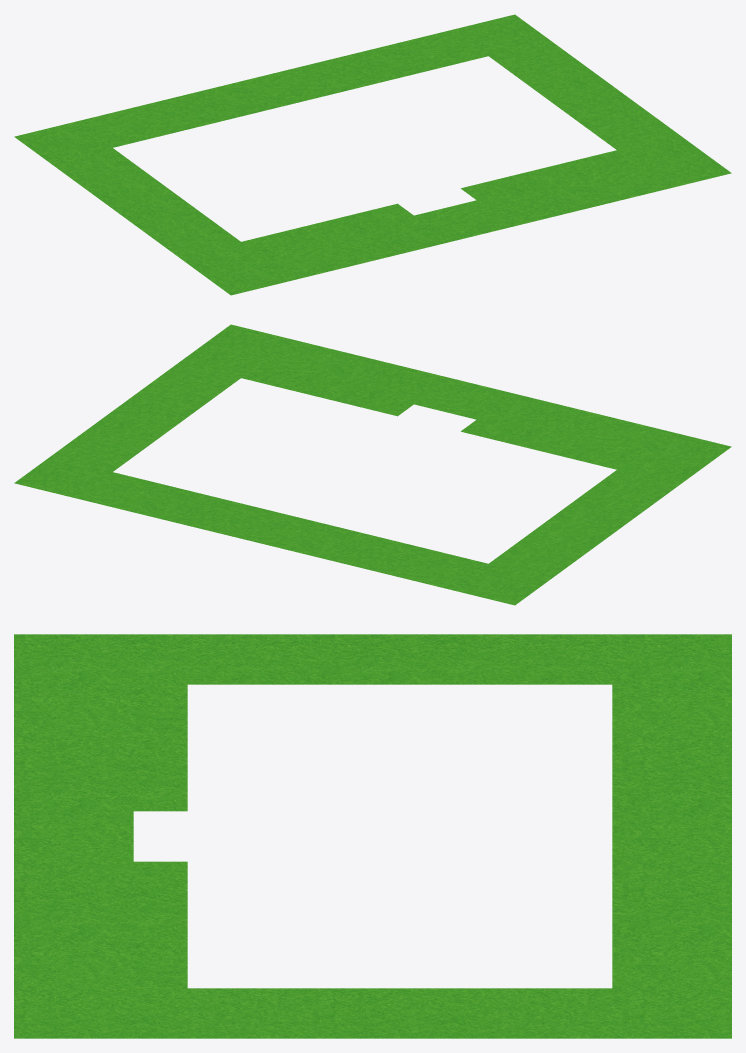
The model's file is PASTO.obj.
3 renders of one model, top to bottom at view 1: azimuth 30°, elevation 25°; view 2: azimuth 150°, elevation 25°; view 3: azimuth 270°, elevation 25°, orthographic. The views are drawn at different scales.
Visible parts, largest first — view 1: PASTO; view 2: PASTO; view 3: PASTO.
Part boxes in pixels (x1,y1,x2,y2): PASTO: (14, 14, 731, 295); PASTO: (14, 324, 731, 605); PASTO: (14, 634, 731, 1038).
Bounding box in the file's own units: 16 × 0 × 12.
1 material, 1 textured.
